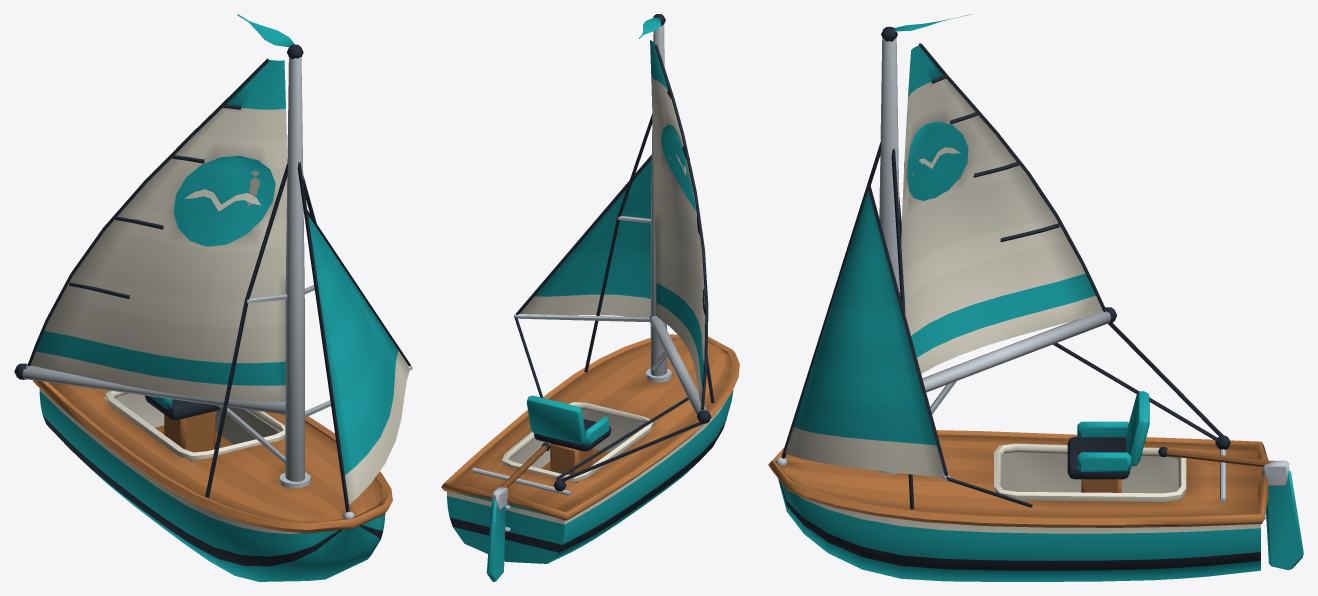
Rendered from sail-dinghy.glb.
3 renders of one model, left to right at view 1: azimuth 30°, elevation 25°; view 2: azimuth 150°, elevation 25°; view 3: azimuth 270°, elevation 25°, orthographic. The views are drawn at different scales.
Parts seen in each view (by area): view 1: Harbour dinghy Sail ivory, Harbour dinghy Harbour teal, Harbour dinghy Deck teak, Harbour dinghy Mast alloy, Harbour dinghy Deck charcoal, Harbour dinghy Rigging line; view 2: Harbour dinghy Harbour teal, Harbour dinghy Deck teak, Harbour dinghy Sail ivory, Harbour dinghy Mast alloy, Harbour dinghy Deck charcoal, Harbour dinghy Rigging line; view 3: Harbour dinghy Harbour teal, Harbour dinghy Sail ivory, Harbour dinghy Deck teak, Harbour dinghy Mast alloy, Harbour dinghy Deck charcoal, Harbour dinghy Rigging line.
Boxes of the visible parts, left/top/right/bottom form: Harbour dinghy Sail ivory: left=30, top=60, right=287, bottom=460; Harbour dinghy Harbour teal: left=39, top=14, right=409, bottom=581; Harbour dinghy Deck teak: left=32, top=380, right=392, bottom=533; Harbour dinghy Mast alloy: left=22, top=57, right=412, bottom=519; Harbour dinghy Deck charcoal: left=14, top=44, right=410, bottom=420; Harbour dinghy Rigging line: left=23, top=161, right=349, bottom=512; Harbour dinghy Harbour teal: left=447, top=17, right=733, bottom=581; Harbour dinghy Deck teak: left=441, top=334, right=739, bottom=520; Harbour dinghy Sail ivory: left=500, top=40, right=705, bottom=482; Harbour dinghy Mast alloy: left=472, top=24, right=708, bottom=531; Harbour dinghy Deck charcoal: left=514, top=14, right=711, bottom=491; Harbour dinghy Rigging line: left=514, top=114, right=714, bottom=481; Harbour dinghy Harbour teal: left=778, top=14, right=1303, bottom=581; Harbour dinghy Sail ivory: left=901, top=45, right=1186, bottom=501; Harbour dinghy Deck teak: left=768, top=430, right=1274, bottom=527; Harbour dinghy Mast alloy: left=775, top=38, right=1289, bottom=519; Harbour dinghy Deck charcoal: left=867, top=26, right=1230, bottom=479; Harbour dinghy Rigging line: left=781, top=142, right=1223, bottom=509.
Bounding box in the file's own units: 2.71 × 4.48 × 3.97.
